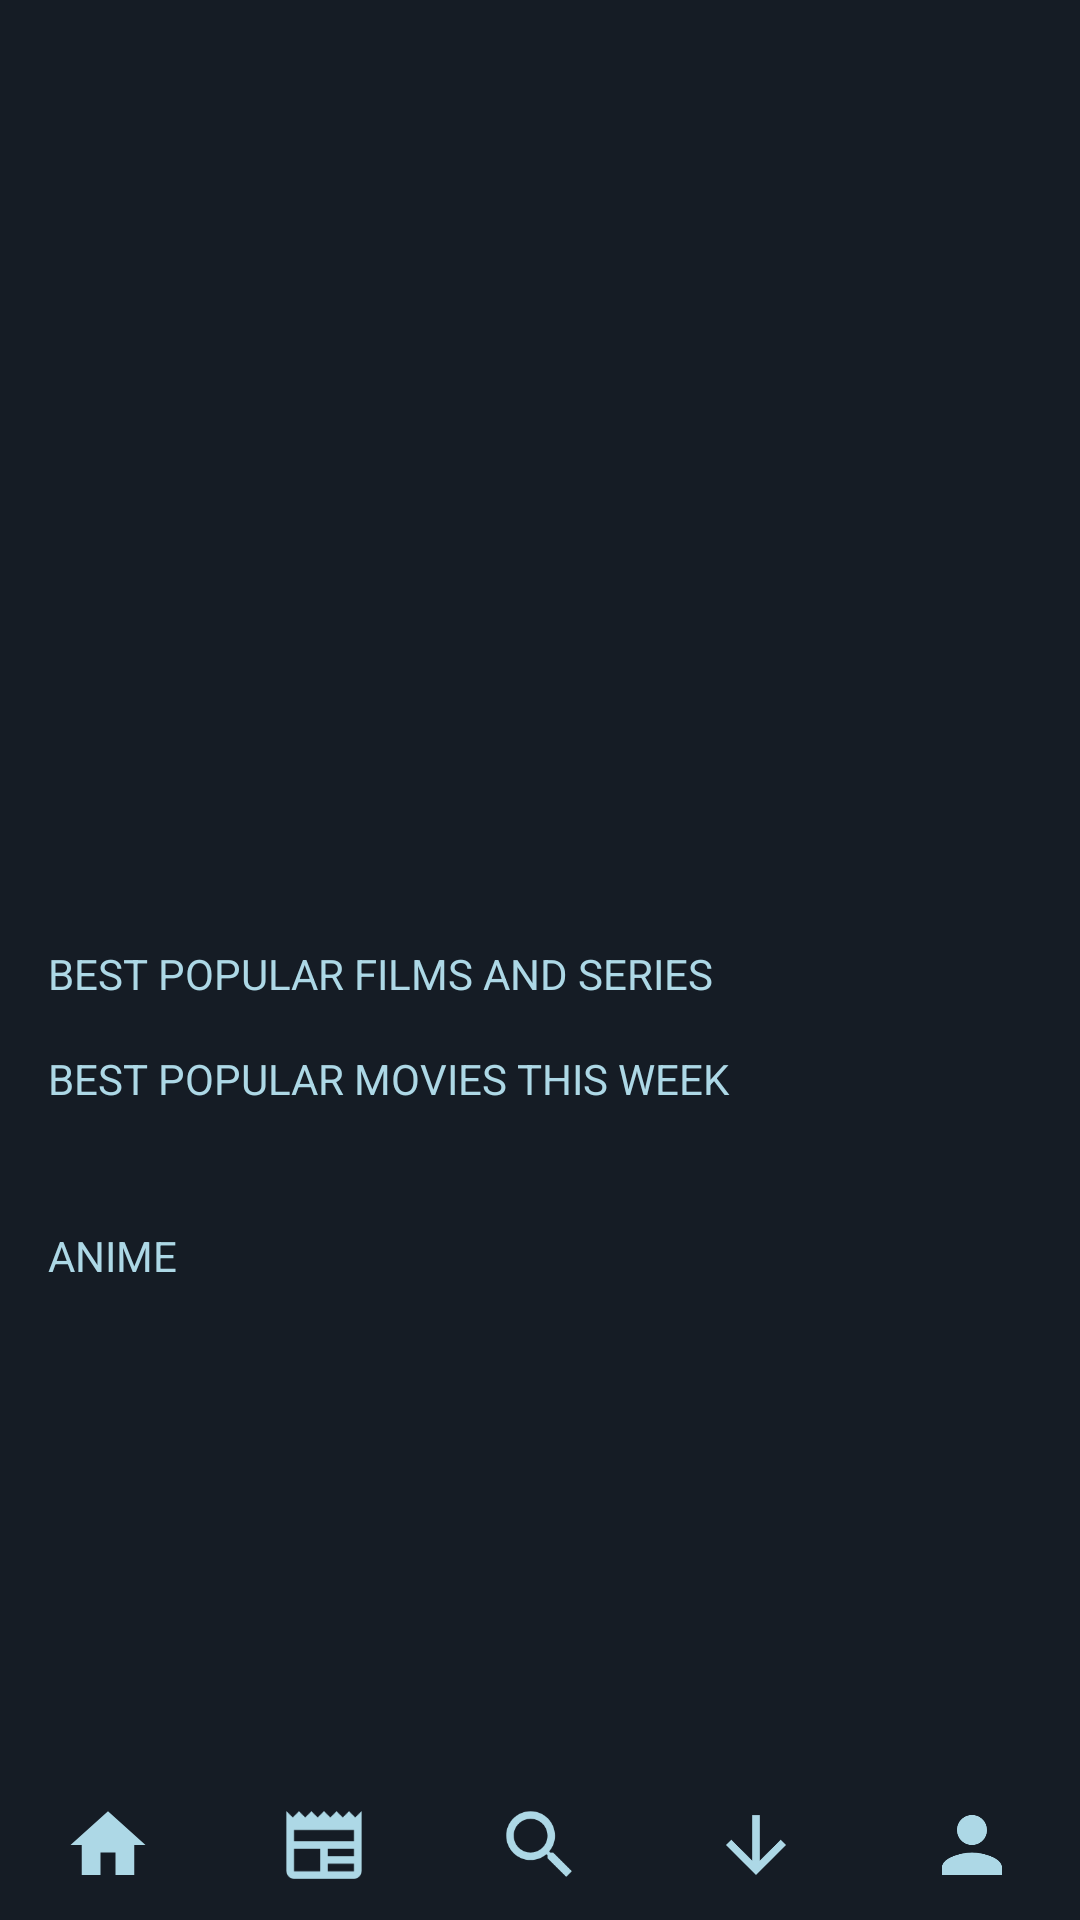

Screen size 1080px×1920px. Icon name, then its center in pixels as point (x, y):
arrow downward: point (756, 1845)
home: point (108, 1843)
newspaper: point (324, 1845)
person: point (972, 1845)
search: point (539, 1844)
